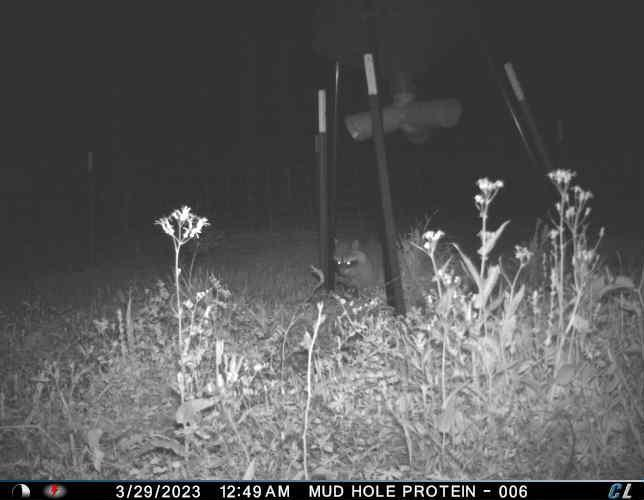Raccoon: (331, 233, 388, 303)
